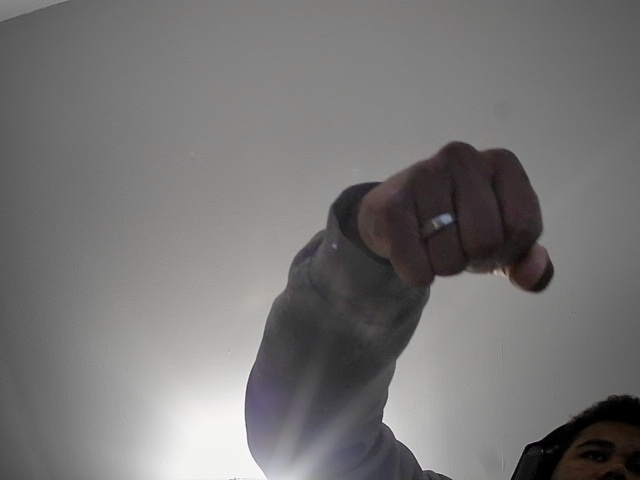Yes: (330, 111, 594, 312)
